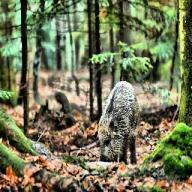boar: (97, 79, 140, 165)
